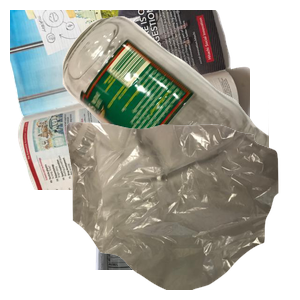glass: (60, 14, 300, 194)
paper: (10, 10, 250, 190)
plastic: (71, 120, 265, 300)
trash: (64, 120, 300, 300)
